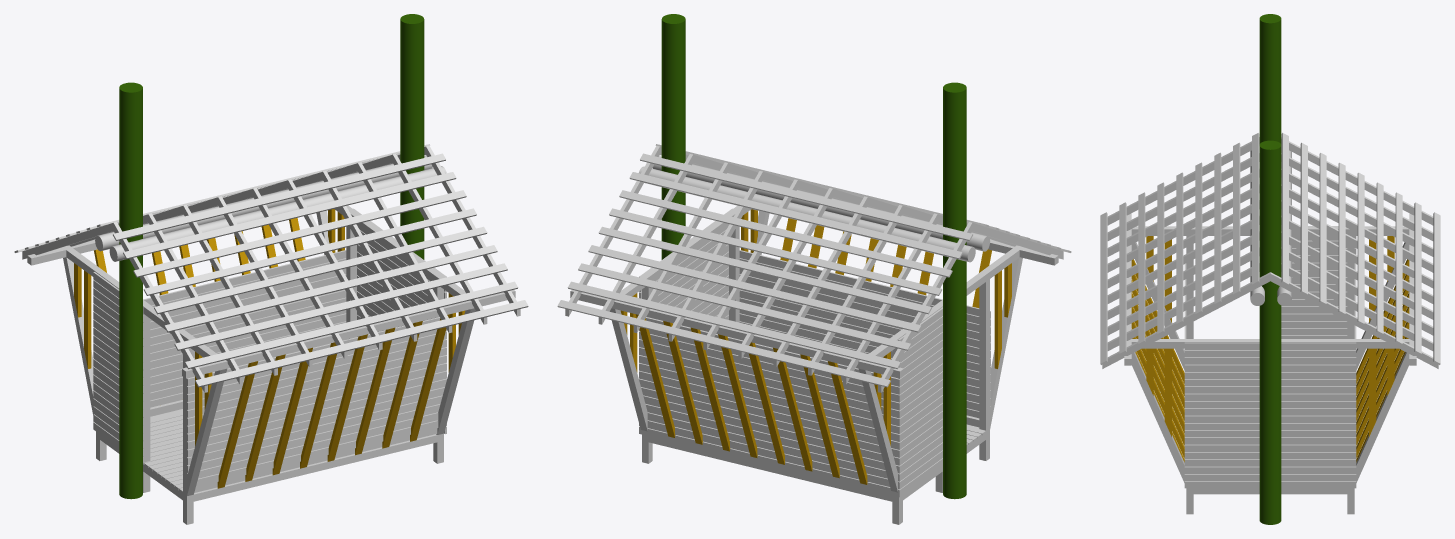
File: sennik2.dae
The picture shows the model from 3 angles, left to right: view 1: azimuth 30°, elevation 25°; view 2: azimuth 150°, elevation 25°; view 3: azimuth 270°, elevation 25°; orthographic projection. The views are drawn at different scales.
Visible parts, largest first — view 1: krokva (×10), group_28, group_22, group_21, group_18, group_19, group_14, group_15, group_16, group_17, group_20, group_13 (+44 smaller); view 2: krokva (×10), group_28, group_22, group_12, group_9, group_10, group_5, group_6, group_7, group_8, group_11, group_4 (+43 smaller); view 3: krokva (×10), group_22, group_28, group_24, group_77, group_80, group_84, group_87, group_91, group_74, group_75, group_76 (+51 smaller).
Boxes of the visible parts, box(x1,y1,x2,y2) form: krokva (×10): box(22, 145, 520, 392); group_28: box(119, 82, 142, 499); group_22: box(400, 14, 424, 259); group_21: box(195, 300, 528, 387); group_18: box(164, 245, 497, 332); group_19: box(174, 263, 507, 350); group_14: box(123, 172, 456, 259); group_15: box(133, 190, 466, 277); group_16: box(143, 208, 476, 295); group_17: box(154, 226, 487, 314); group_20: box(185, 281, 518, 369); group_13: box(113, 153, 445, 240); krokva (×10): box(565, 145, 1063, 392); group_28: box(943, 82, 966, 499); group_22: box(661, 14, 685, 259); group_12: box(557, 300, 890, 387); group_9: box(588, 245, 921, 332); group_10: box(578, 263, 911, 350); group_5: box(629, 172, 962, 259); group_6: box(619, 190, 952, 277); group_7: box(609, 208, 942, 295); group_8: box(598, 226, 931, 314); group_11: box(567, 281, 900, 369); group_4: box(640, 153, 972, 240); krokva (×10): box(1102, 137, 1438, 368); group_22: box(1259, 140, 1281, 524); group_28: box(1259, 14, 1281, 143); group_24: box(1131, 339, 1409, 348); group_77: box(1184, 459, 1356, 466); group_80: box(1184, 437, 1356, 444); group_84: box(1184, 408, 1356, 415); group_87: box(1184, 386, 1356, 393); group_91: box(1184, 357, 1356, 364); group_74: box(1184, 481, 1356, 488); group_75: box(1184, 474, 1356, 481); group_76: box(1184, 466, 1356, 473).
Bounding box in the file's own units: 189 × 183 × 223.
